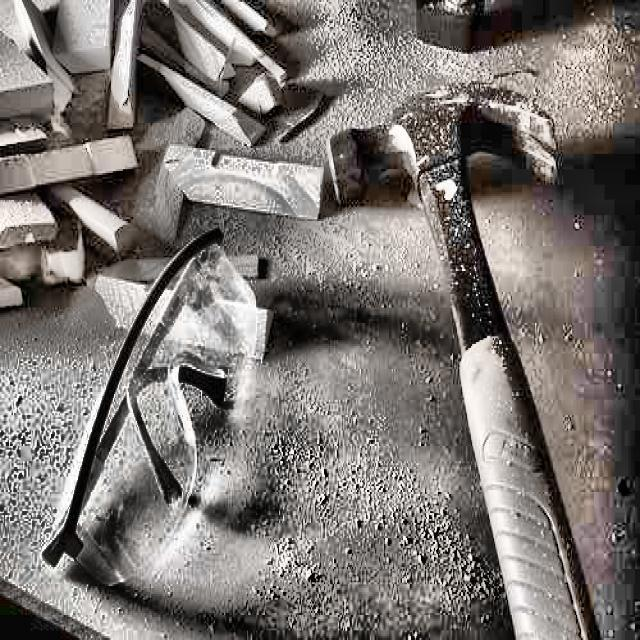hammer: (325, 87, 600, 640)
